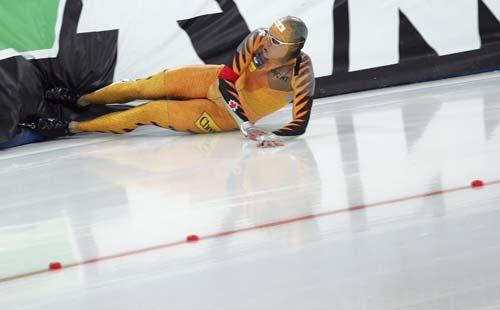falling: (10, 4, 320, 150)
